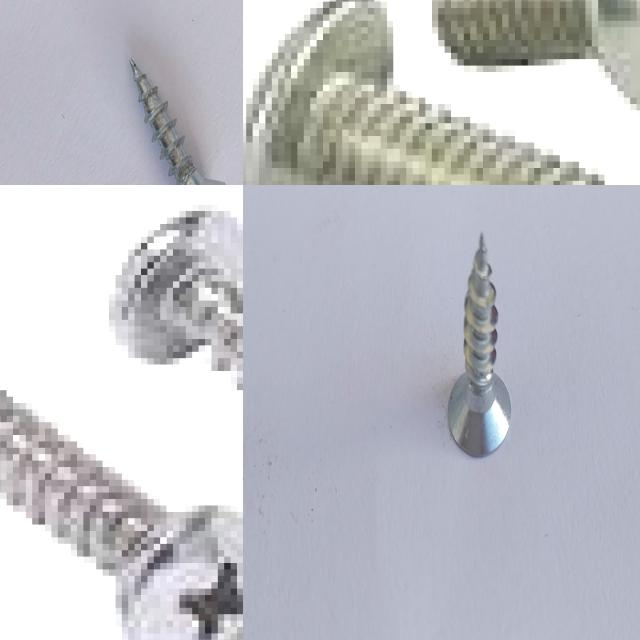Screw: (243, 0, 608, 185), (0, 390, 243, 640), (433, 0, 640, 120), (109, 211, 243, 387), (448, 232, 511, 456), (129, 57, 225, 185)
